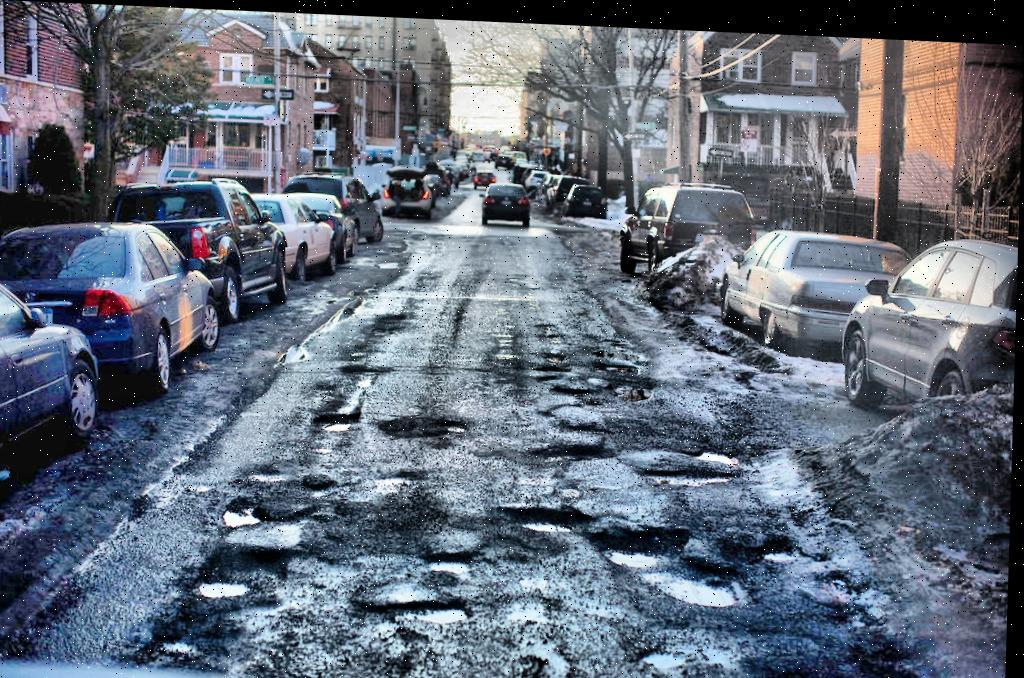pothole: (640, 637, 742, 678), (511, 625, 588, 678), (636, 454, 736, 492), (656, 567, 746, 603), (379, 406, 472, 439), (600, 528, 666, 572), (516, 504, 588, 542), (198, 568, 255, 604), (410, 595, 474, 625), (430, 545, 477, 583), (317, 402, 359, 441), (341, 351, 387, 385), (222, 503, 268, 529), (691, 436, 738, 460), (779, 671, 840, 678)
